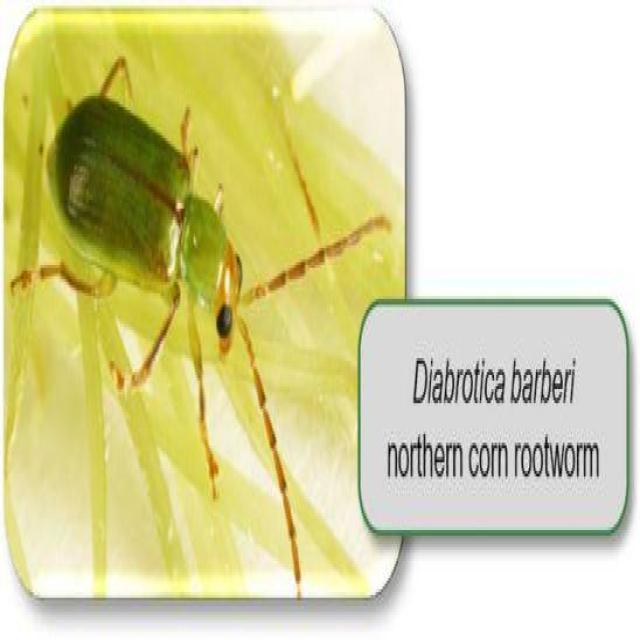gusano_gris: (11, 54, 392, 596)
